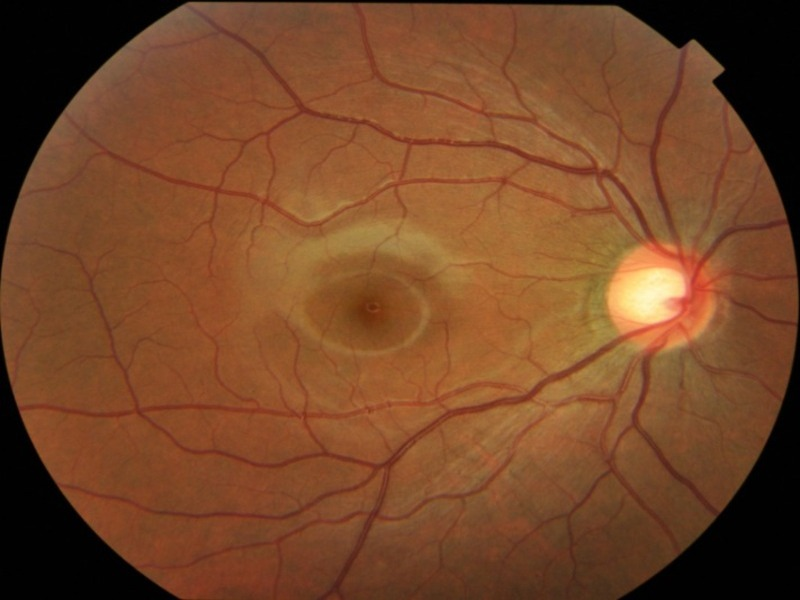Optic Cup: (627, 272, 683, 323)
Optic Disc: (606, 242, 714, 354)
